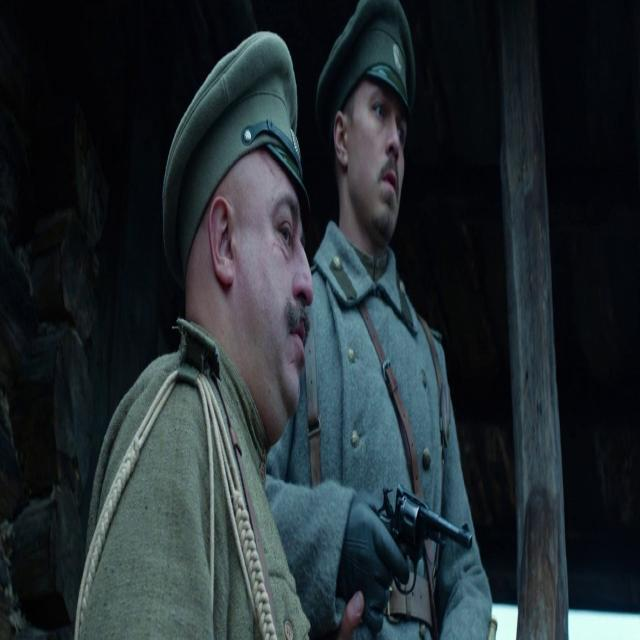gun-knife-thesis - v11 Yolov5 augmented: (355, 468, 475, 635)
